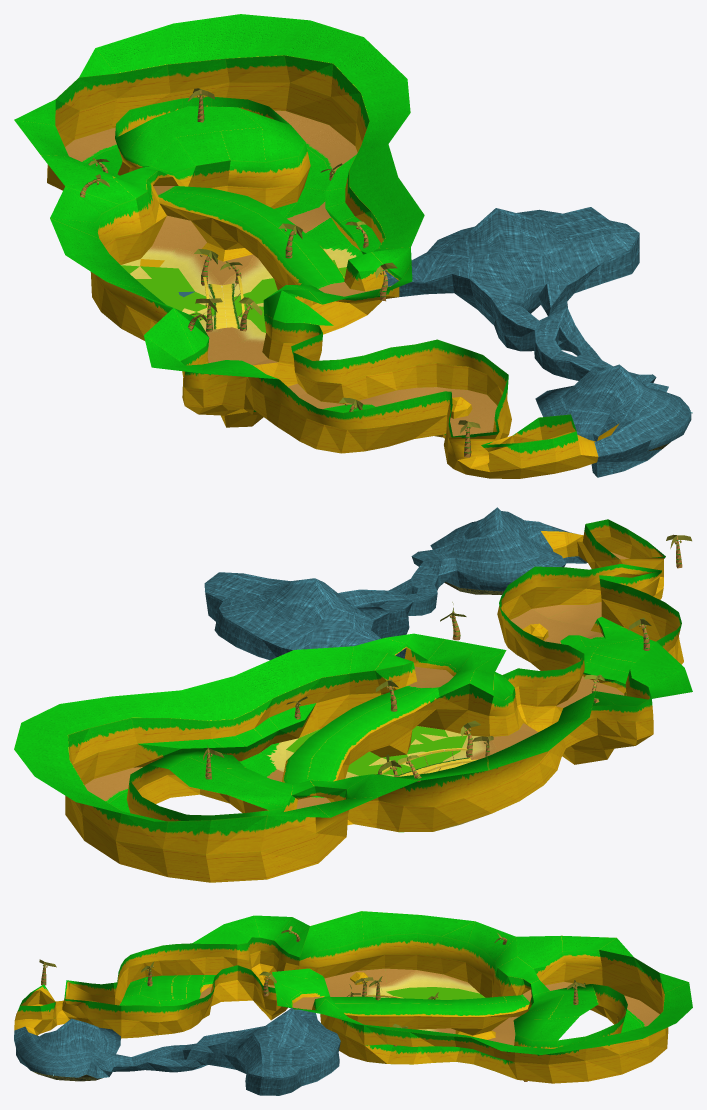
File: escenario3.obj
The picture shows the model from 3 angles, top to bottom: view 1: azimuth 30°, elevation 25°; view 2: azimuth 150°, elevation 25°; view 3: azimuth 270°, elevation 25°; orthographic projection. The views are drawn at different scales.
Parts seen in each view (by area): view 1: fleur5.prm.000; view 2: fleur5.prm.000; view 3: fleur5.prm.000.
Part boxes in pixels (<box>): fleur5.prm.000: <box>14,14,692,478</box>; fleur5.prm.000: <box>14,507,692,882</box>; fleur5.prm.000: <box>14,911,692,1095</box>.
Bounding box in the file's own units: 7.18 × 2.01 × 12.22.
8 materials, 8 textured.
